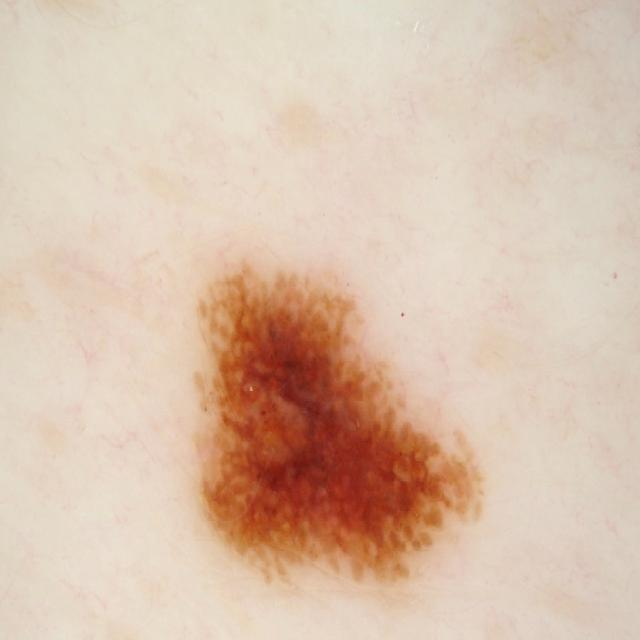Melanoma: (148, 197, 520, 619)
